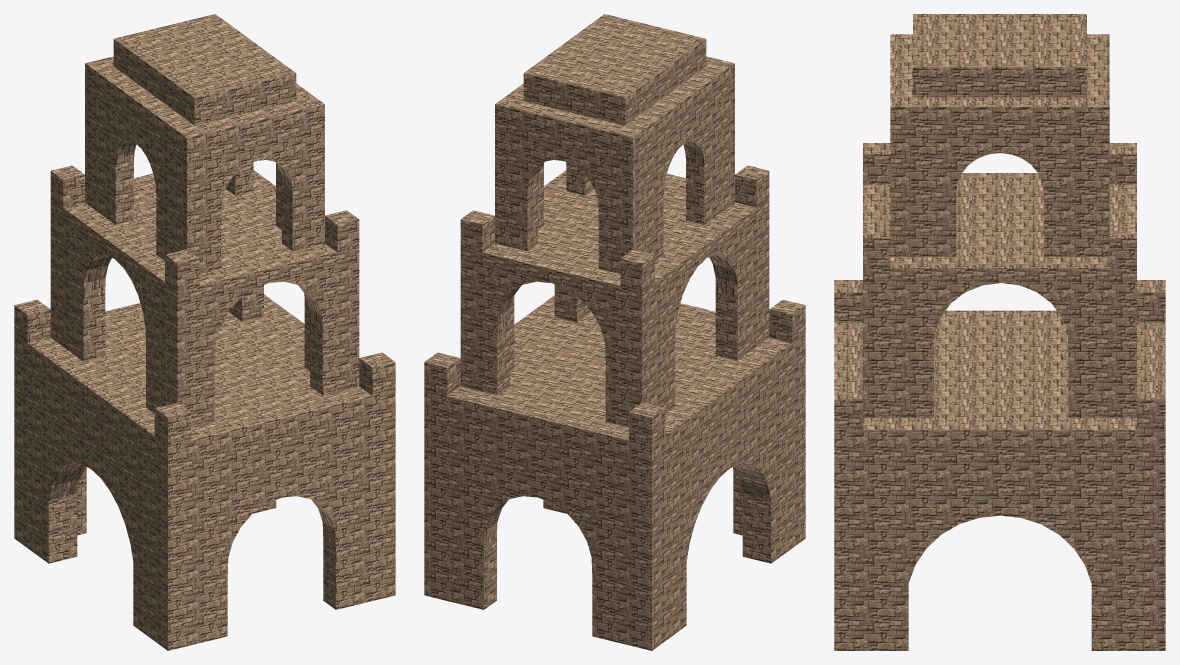
File: Bell+Tower.fbx
3 views of the same model, side by side, from view 1: azimuth 30°, elevation 25°; view 2: azimuth 150°, elevation 25°; view 3: azimuth 270°, elevation 25° (orthographic). The views are drawn at different scales.
Visible parts, largest first — view 1: skp605B1; view 2: skp605B1; view 3: skp605B1.
Part boxes in pixels (box(x1,y1,x2,y2)): skp605B1: box(14, 14, 395, 650); skp605B1: box(424, 14, 805, 650); skp605B1: box(834, 14, 1165, 650).
Bounding box in the file's own units: 411 × 881 × 481.
